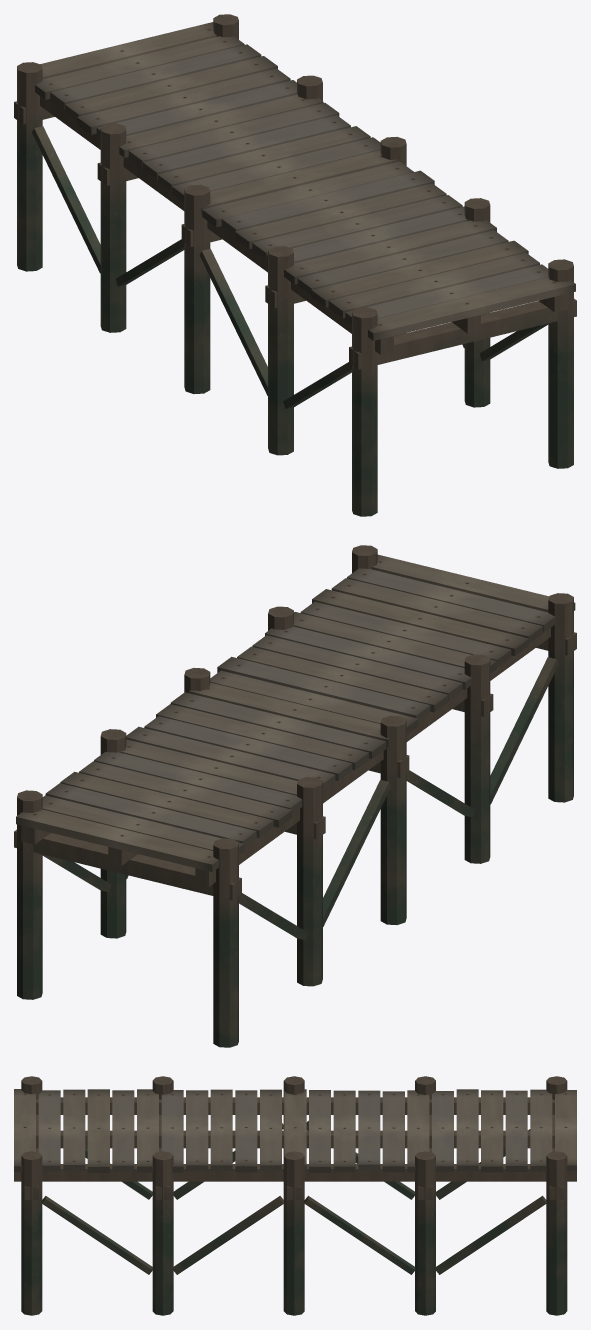
The picture shows the model from 3 angles, top to bottom: view 1: azimuth 30°, elevation 25°; view 2: azimuth 150°, elevation 25°; view 3: azimuth 270°, elevation 25°; orthographic projection. The views are drawn at different scales.
Visible parts, largest first — view 1: 부두_잔교_짧은; view 2: 부두_잔교_짧은; view 3: 부두_잔교_짧은.
Boxes of the visible parts, x1,y1,x2,y2 form: 부두_잔교_짧은: [14, 14, 576, 516]; 부두_잔교_짧은: [14, 545, 576, 1047]; 부두_잔교_짧은: [14, 1076, 576, 1315].
Size of the model in its own units: 492 by 425 by 1394.
Materials: 2 (2 with a texture image).
